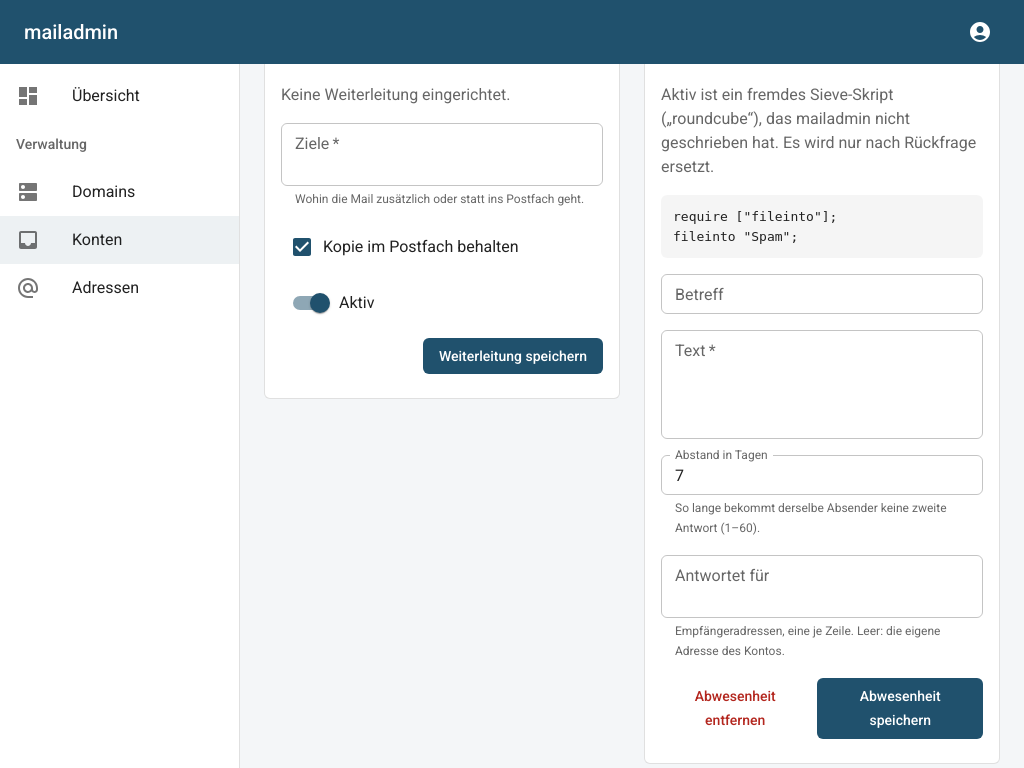
Test: the vacation notice on the account page (A3) › takes over a foreign script only after asking
The width and height of the screenshot is (1024, 768).
(page scrolled)
Expected: the text "fremdes Sieve-Skript („roundcube“)" is shown, 661,85 -> 976,176
Expected: the text "require [\"fileinto\"]; fileinto \"Spam\";" is shown, 661,195 -> 983,258
In the text box labelled "Text *": (822, 385) 675,339 -> 969,431, type "Bin weg."
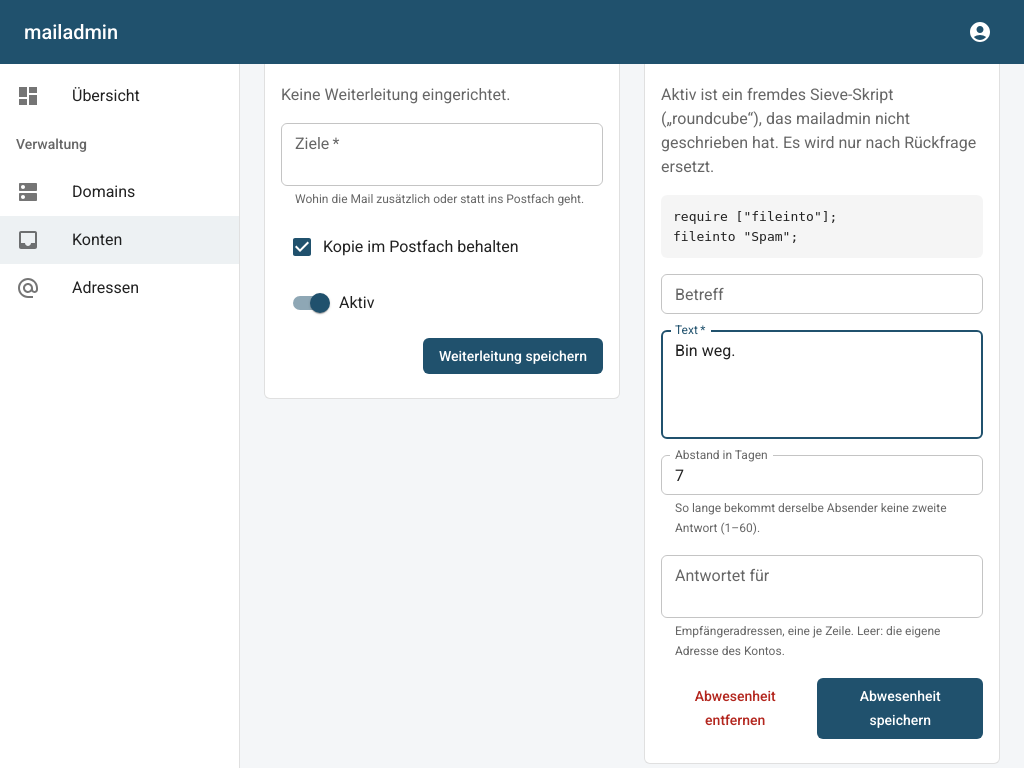
Click the button "Abwesenheit speichern": (900, 708) 818,678 -> 983,739
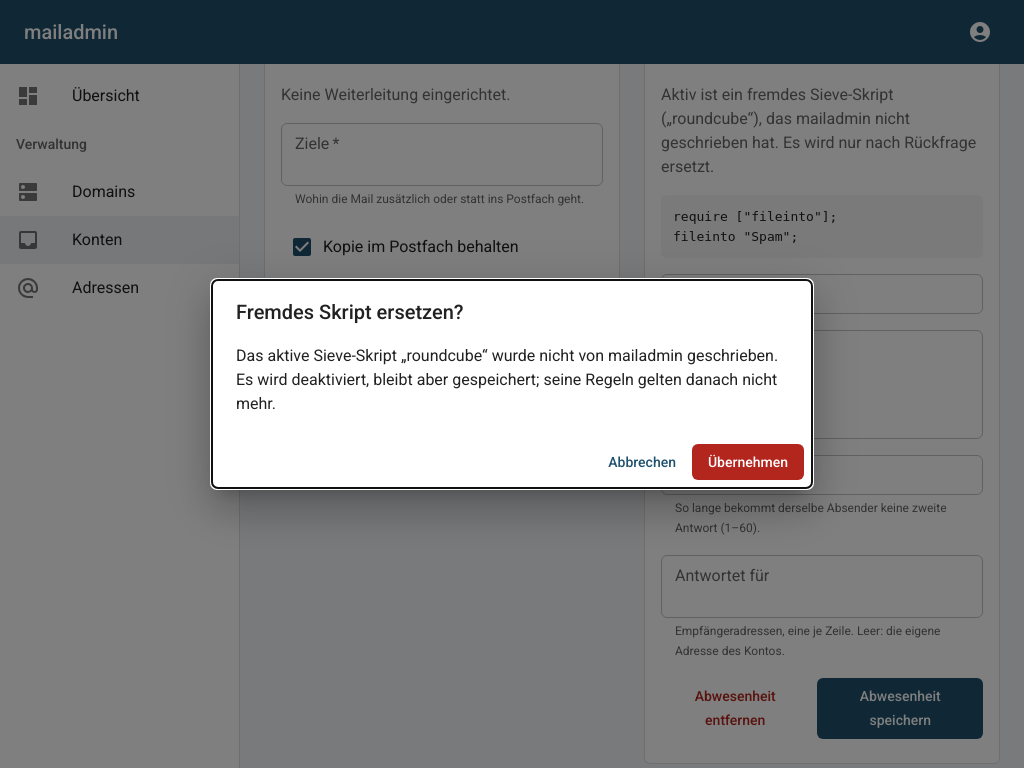
Click the button "Übernehmen": (748, 462) 692,444 -> 804,480
(page scrolled)
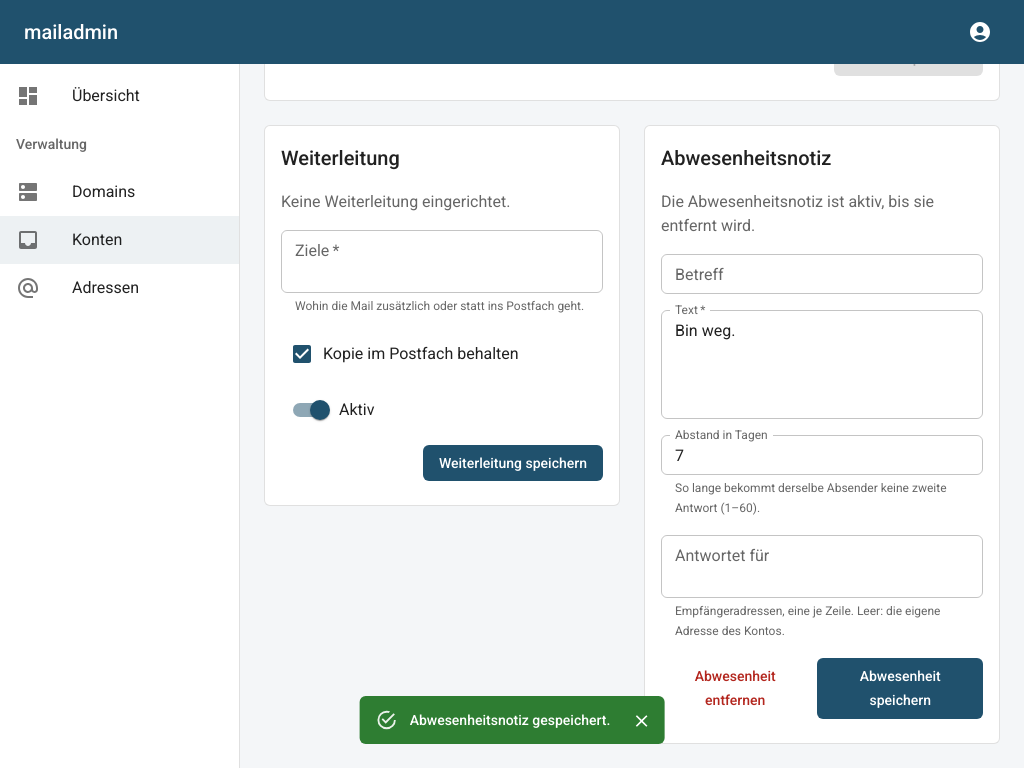
Result: the text "Abwesenheitsnotiz gespeichert." is shown at 410,712 -> 610,728
